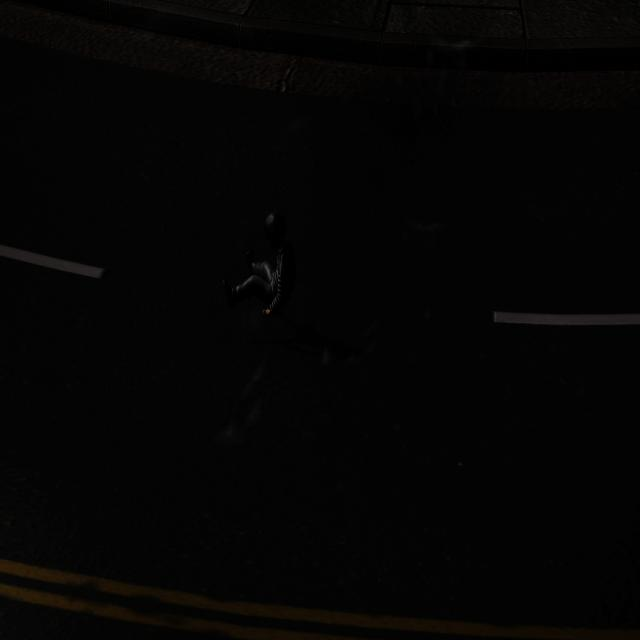Human: (216, 208, 299, 330)
